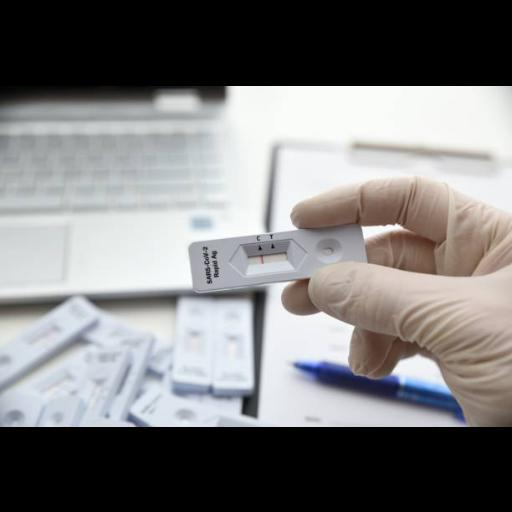Neg: (189, 221, 368, 293)
